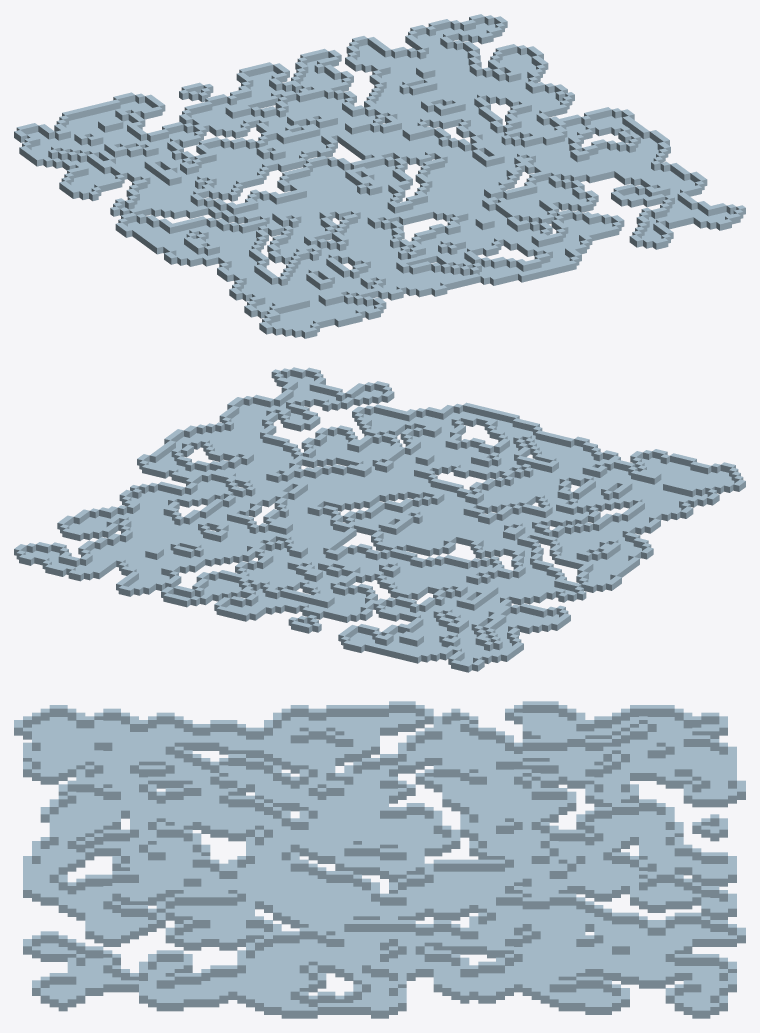
Rendered from mcMaze.glb.
3 views of the same model, one above another, from view 1: azimuth 30°, elevation 25°; view 2: azimuth 150°, elevation 25°; view 3: azimuth 270°, elevation 25° (orthographic). The views are drawn at different scales.
Parts seen in each view (by area): view 1: Plane.022; view 2: Plane.022; view 3: Plane.022.
Part boxes in pixels (x1=…): Plane.022: x1=14, y1=14, x2=745, y2=338; Plane.022: x1=14, y1=367, x2=745, y2=672; Plane.022: x1=14, y1=701, x2=745, y2=1018.
Bounding box in the file's own units: 164 × 2 × 164.
